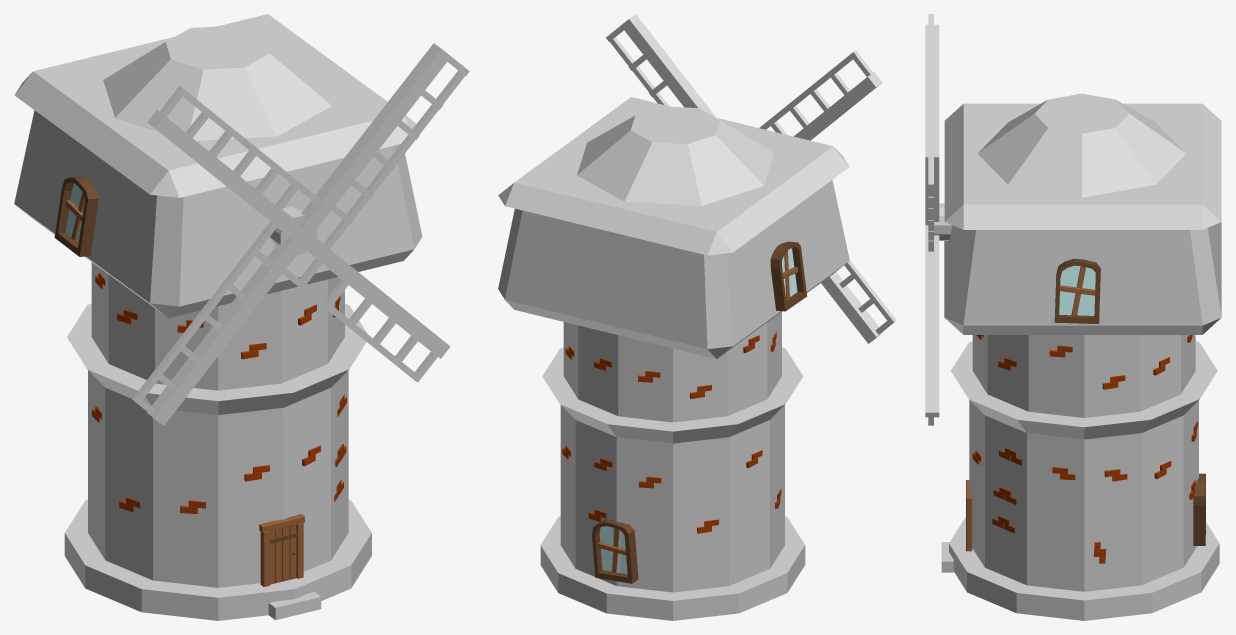
Rendered from wind.fbx.
3 views of the same model, side by side, from view 1: azimuth 30°, elevation 25°; view 2: azimuth 150°, elevation 25°; view 3: azimuth 270°, elevation 25° (orthographic). The views are drawn at different scales.
Parts seen in each view (by area): view 1: Cylinder, Cube, Cylinder.002, Cylinder.001, Cylinder.003, Cylinder.004, Icosphere, Plane.054, Cube.002; view 2: Cube, Cylinder, Cylinder.001, Cylinder.003, Cylinder.002, Cylinder.004, Plane.055, Plane.054, Cube.002; view 3: Cylinder, Cube, Cylinder.001, Cylinder.003, Cylinder.004, Cylinder.002, Plane.056, Cube.002, Plane.055, Icosphere.
Part boxes in pixels (x1,y1,x2,y2): Cylinder: [88, 262, 348, 587]; Cube: [14, 14, 422, 318]; Cylinder.002: [132, 43, 469, 425]; Cylinder.001: [103, 25, 331, 140]; Cylinder.003: [64, 499, 371, 620]; Cylinder.004: [67, 303, 367, 415]; Icosphere: [259, 514, 304, 586]; Plane.054: [54, 176, 98, 256]; Cube.002: [92, 273, 346, 513]; Cube: [498, 97, 849, 359]; Cylinder: [560, 312, 784, 592]; Cylinder.001: [577, 106, 774, 205]; Cylinder.003: [540, 516, 805, 620]; Cylinder.002: [606, 14, 896, 343]; Cylinder.004: [542, 347, 803, 443]; Plane.055: [592, 519, 638, 583]; Plane.054: [770, 241, 807, 311]; Cube.002: [562, 332, 781, 533]; Cylinder: [969, 335, 1198, 591]; Cube: [944, 103, 1221, 334]; Cylinder.001: [977, 93, 1186, 197]; Cylinder.003: [941, 517, 1219, 620]; Cylinder.004: [951, 341, 1217, 439]; Cylinder.002: [925, 14, 951, 425]; Plane.056: [1054, 258, 1100, 323]; Cube.002: [972, 335, 1197, 563]; Plane.055: [1193, 473, 1205, 545]; Icosphere: [966, 480, 972, 551].
Size of the model in its own units: 275 by 442 by 239.
